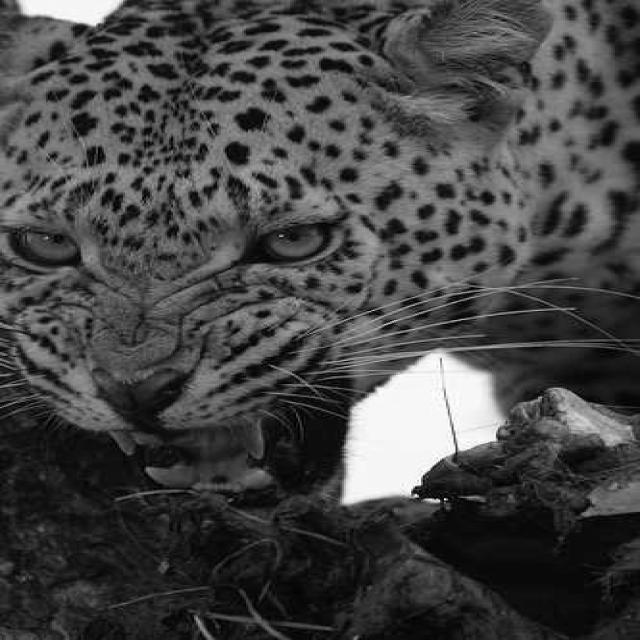Leopard: (42, 27, 640, 561)
